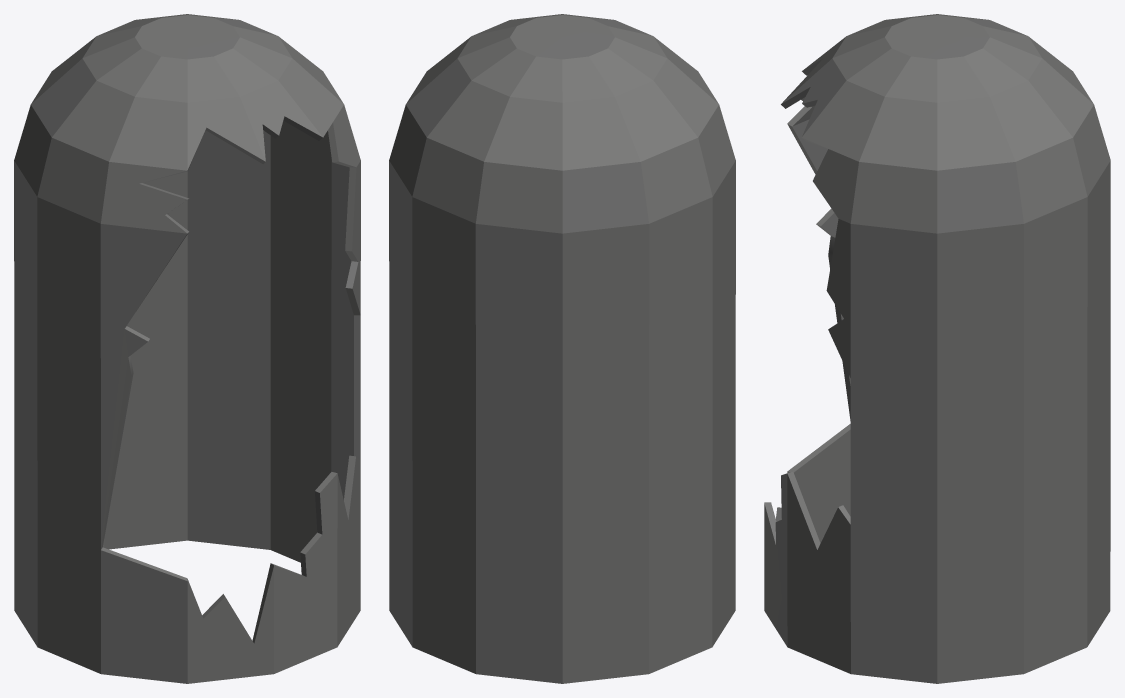
Rendered from SM_Prop_Tech_Chamber_Broken_Glass.glb.
3 views of the same model, side by side, from view 1: azimuth 30°, elevation 25°; view 2: azimuth 150°, elevation 25°; view 3: azimuth 270°, elevation 25° (orthographic).
Visible parts, largest first — view 1: SM_Prop_Tech_Chamber_Broken_Glass; view 2: SM_Prop_Tech_Chamber_Broken_Glass; view 3: SM_Prop_Tech_Chamber_Broken_Glass.
Boxes of the visible parts, x1,y1,x2,y2 form: SM_Prop_Tech_Chamber_Broken_Glass: (14,14,360,683); SM_Prop_Tech_Chamber_Broken_Glass: (389,14,735,683); SM_Prop_Tech_Chamber_Broken_Glass: (764,14,1110,683).
Bounding box in the file's own units: 0.0125 × 0.0228 × 0.0125.
1 material, 1 textured.
